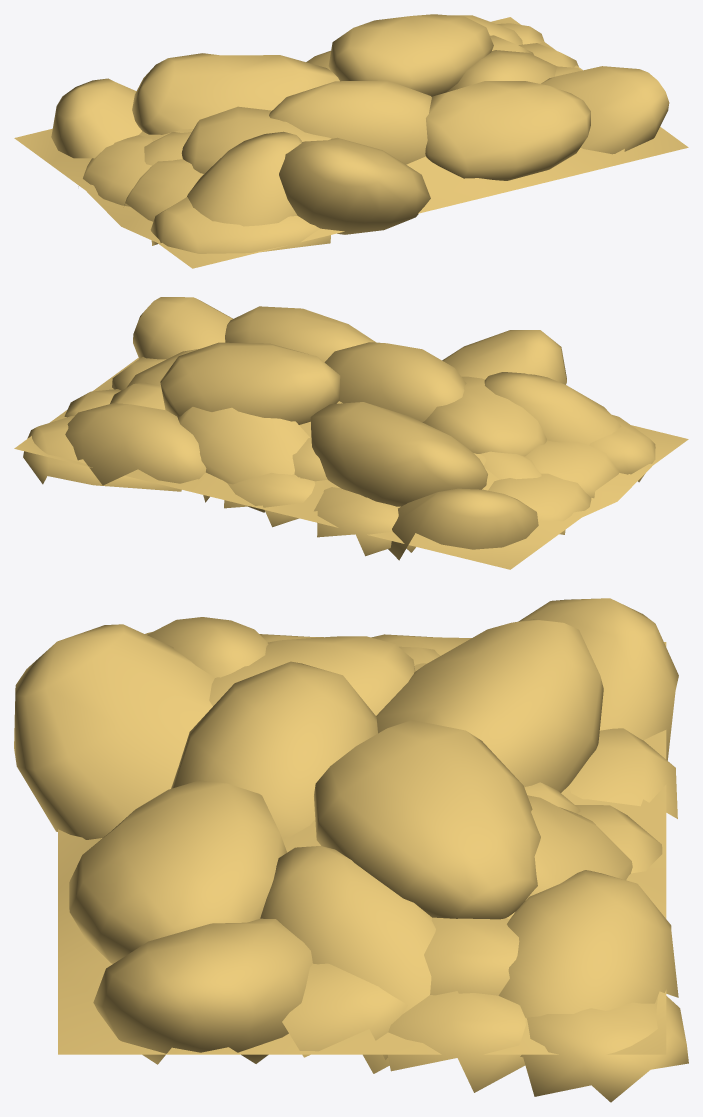
File: mesh_farmtruck_fullcrate03.fbx
The picture shows the model from 3 angles, top to bottom: view 1: azimuth 30°, elevation 25°; view 2: azimuth 150°, elevation 25°; view 3: azimuth 270°, elevation 25°; orthographic projection. The views are drawn at different scales.
Parts seen in each view (by area): view 1: mesh_farmtruck_fullcrate03; view 2: mesh_farmtruck_fullcrate03; view 3: mesh_farmtruck_fullcrate03.
Part boxes in pixels (x1=…): mesh_farmtruck_fullcrate03: x1=14, y1=14, x2=688, y2=268; mesh_farmtruck_fullcrate03: x1=14, y1=297, x2=688, y2=569; mesh_farmtruck_fullcrate03: x1=14, y1=598, x2=688, y2=1102.
Bounding box in the file's own units: 1.12 × 0.2366 × 0.7534.
